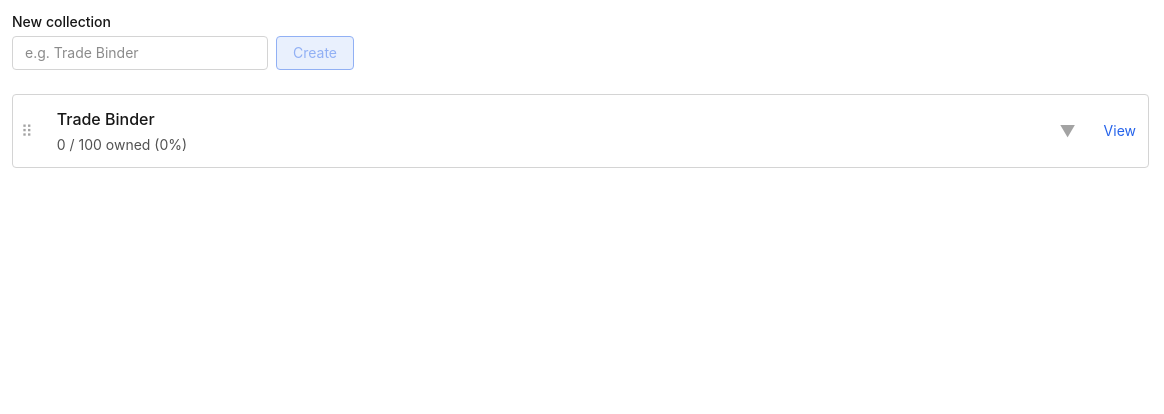
Test: CollectionsList › renaming a collection saves the new name
Click the text "Trade Binder" at (106, 119), box top-left (57, 107), bottom-right (155, 131)
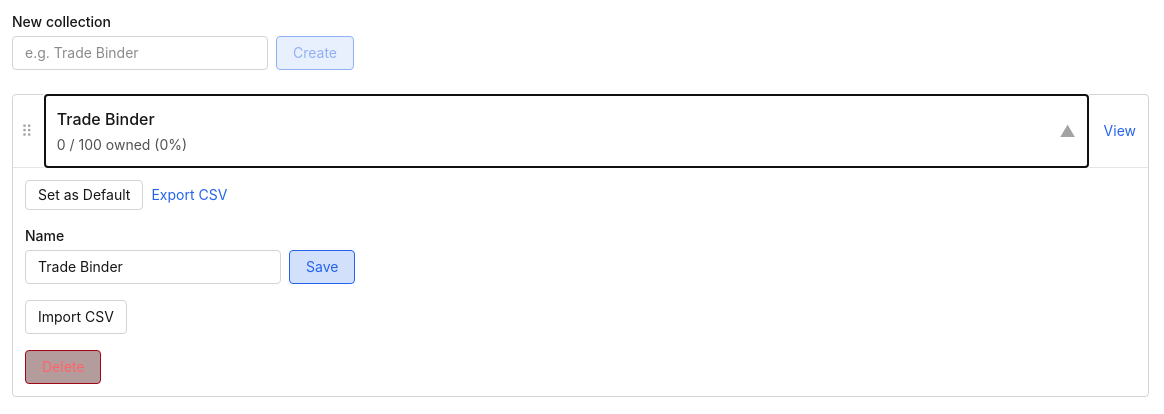
Replace the text in the field labelled "Name" with "Renamed Binder" at (153, 267), box top-left (25, 250), bottom-right (281, 284)
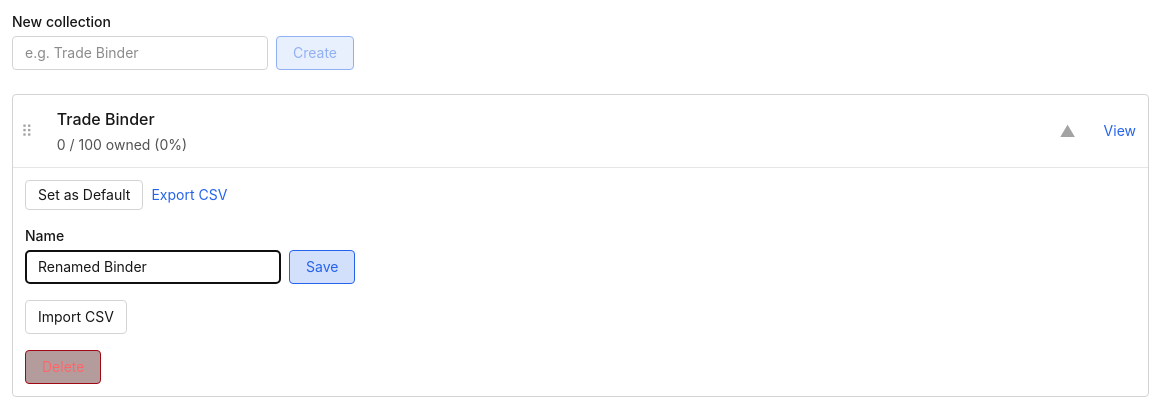
Click the button "Save" at (322, 267), box top-left (289, 250), bottom-right (355, 284)
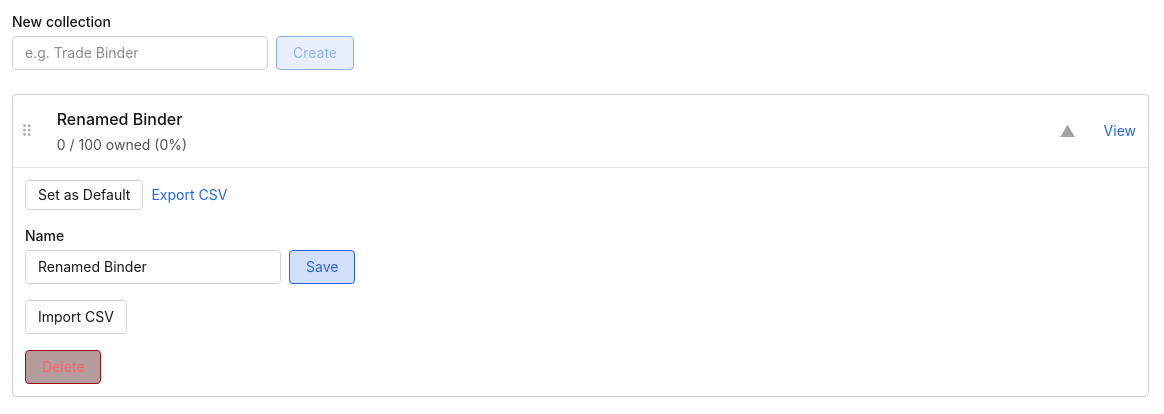
Expected: the text "Renamed Binder" is shown, top-left (57, 107), bottom-right (182, 131)
